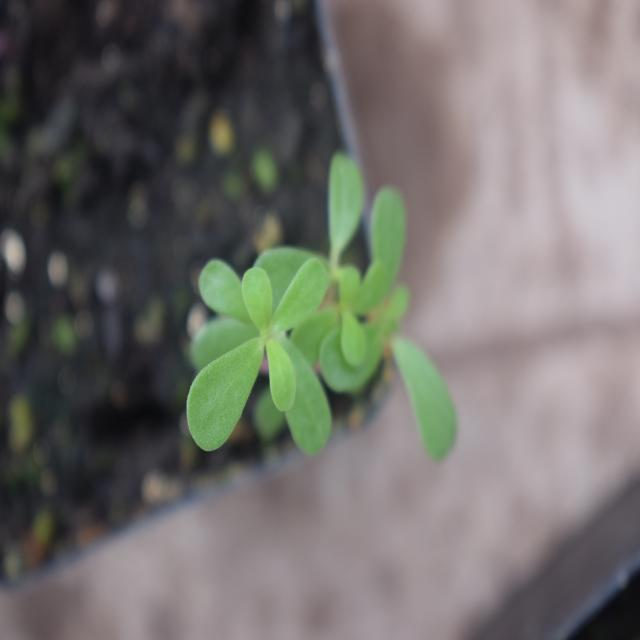purslane: (182, 177, 466, 475)
